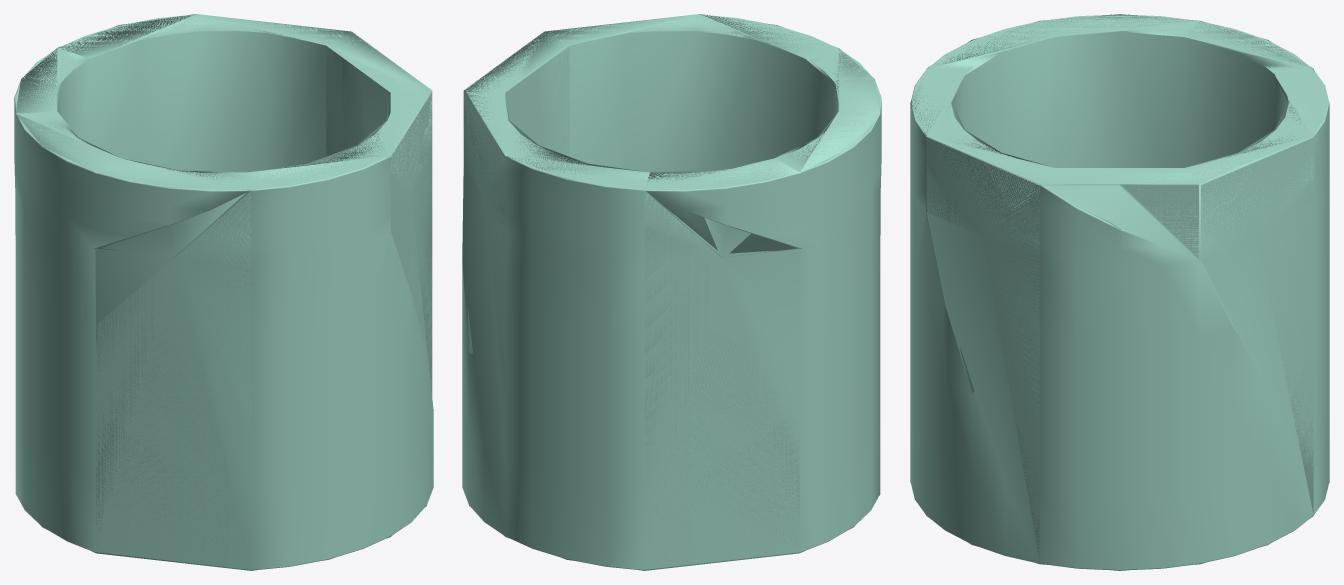
The model's file is space-kit__rocket_fuelA.glb.
The picture shows the model from 3 angles, left to right: view 1: azimuth 30°, elevation 25°; view 2: azimuth 150°, elevation 25°; view 3: azimuth 270°, elevation 25°; orthographic projection.
Visible parts, largest first — view 1: L0_accent, L1_accent; view 2: L0_accent, L1_accent; view 3: L0_accent, L1_accent.
Boxes of the visible parts, x1=… form: L0_accent: x1=14, y1=14, x2=433, y2=570; L1_accent: x1=15, y1=14, x2=432, y2=570; L0_accent: x1=462, y1=14, x2=881, y2=570; L1_accent: x1=463, y1=14, x2=880, y2=570; L0_accent: x1=910, y1=14, x2=1329, y2=570; L1_accent: x1=910, y1=14, x2=1329, y2=570.
Size of the model in its own units: 1 by 1 by 1.
